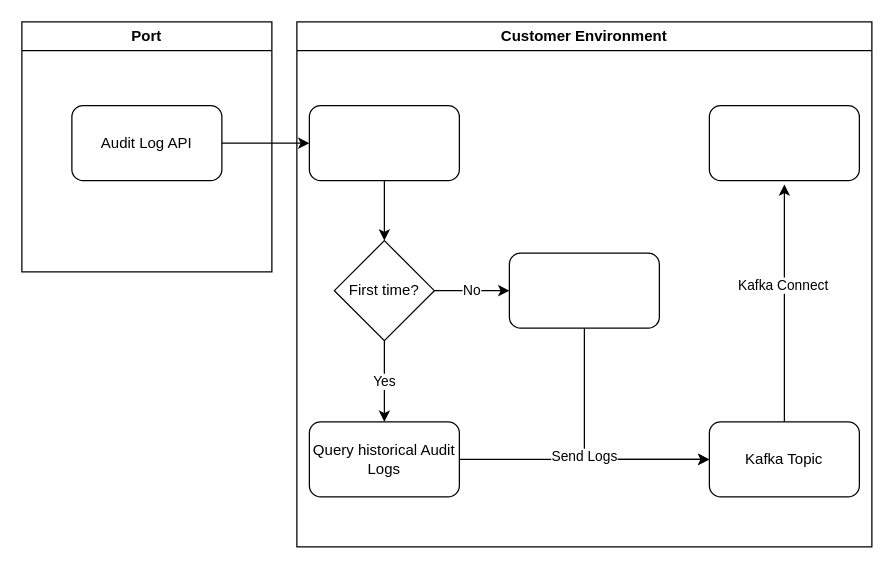
Some shapes in this 894 by 569 pixel diagram are drawn without their labels. The shapes that lost their labels are listed below. From the top down, each one's centre as x and y in pixels, then its label:
At point (383, 142): "Port Audit Log Exporter".
At point (783, 142): "SIEM of choice".
At point (583, 290): "Verify Timestamp and query new Audit Logs".
